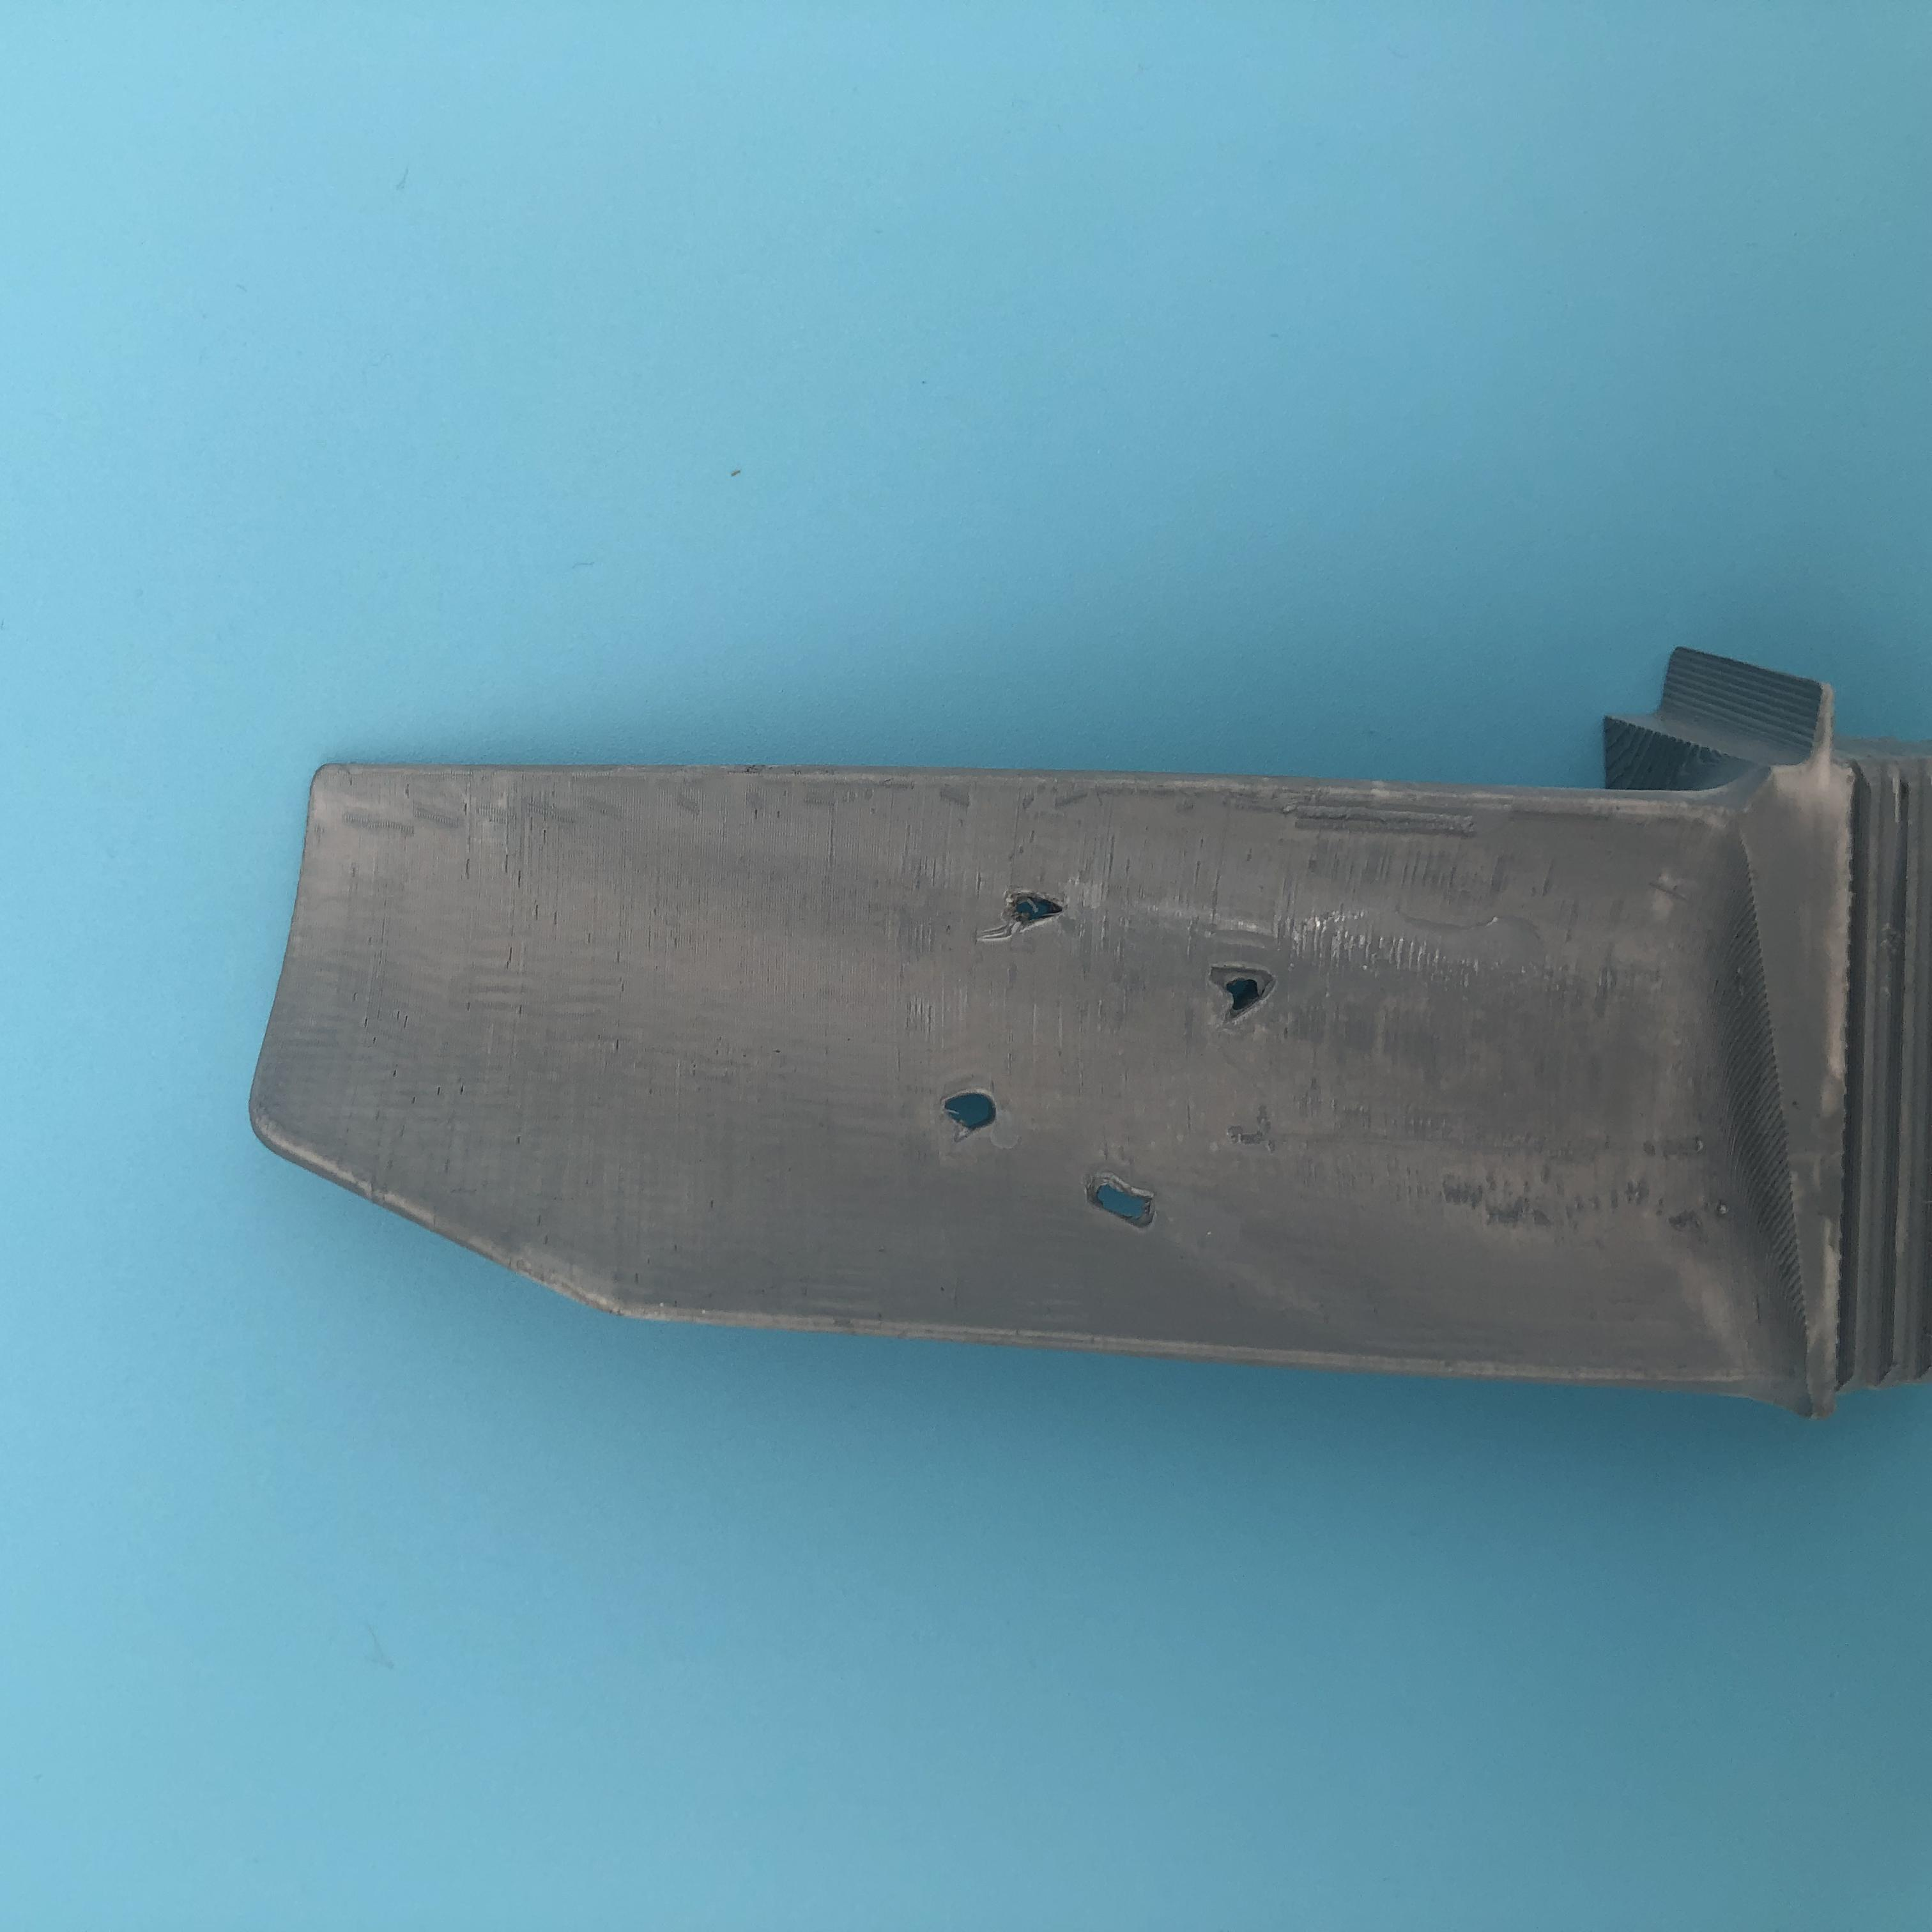breakdown: (932, 890, 1269, 1214)
